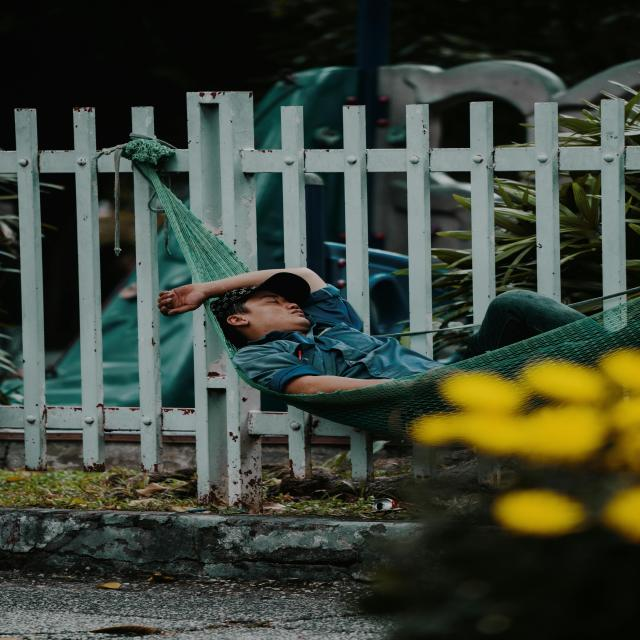lie: (186, 266, 614, 411)
